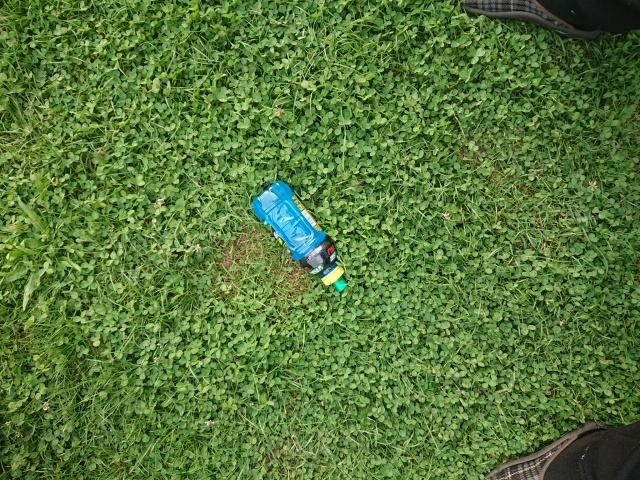Vindi Iso Sport Forest Strawberries 500mL: (249, 178, 348, 293)
